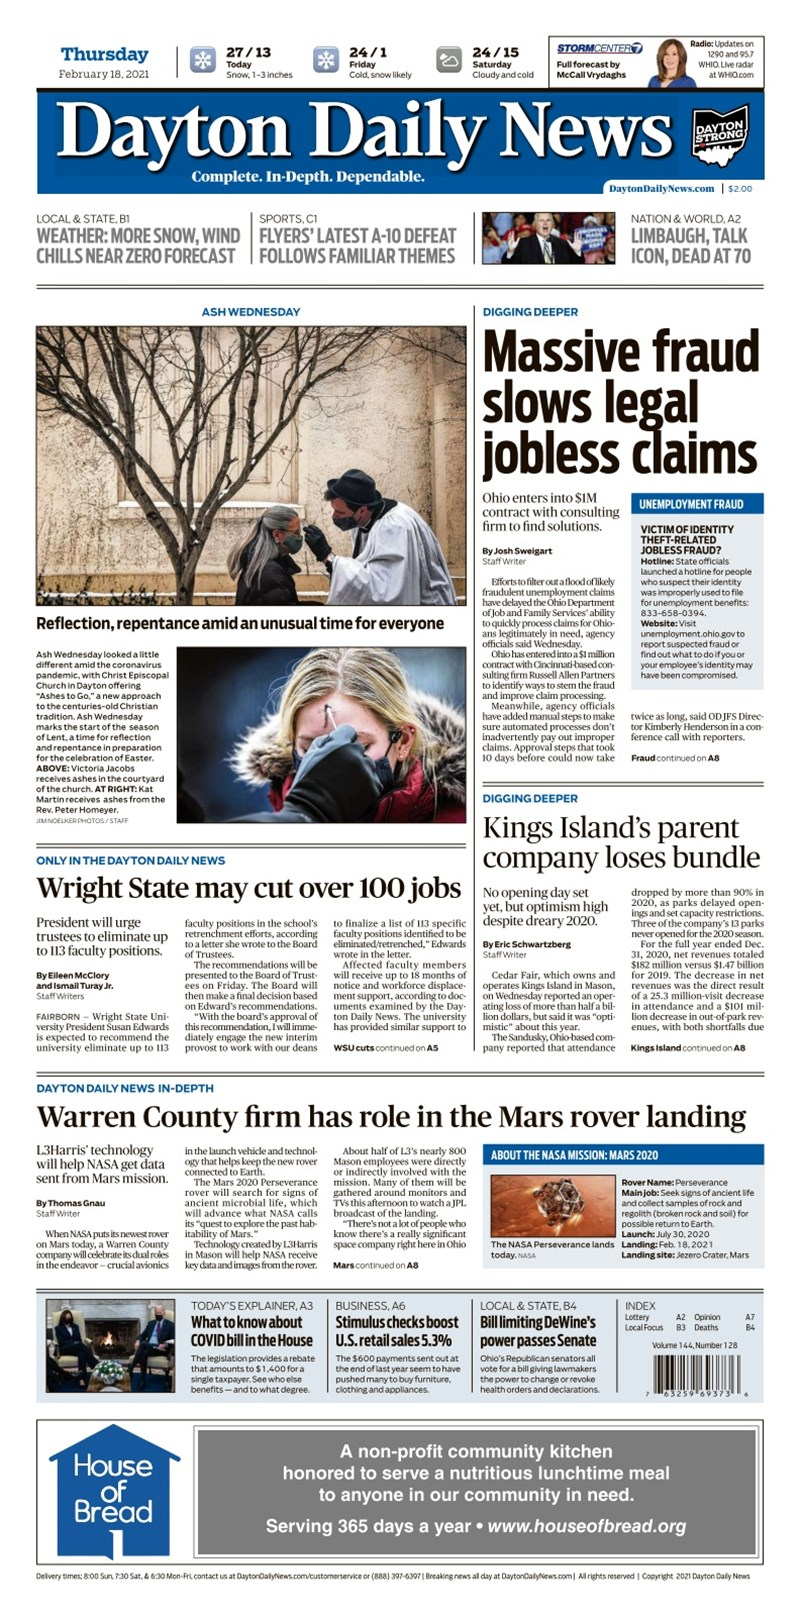news_paper: (2, 4, 795, 1618)
